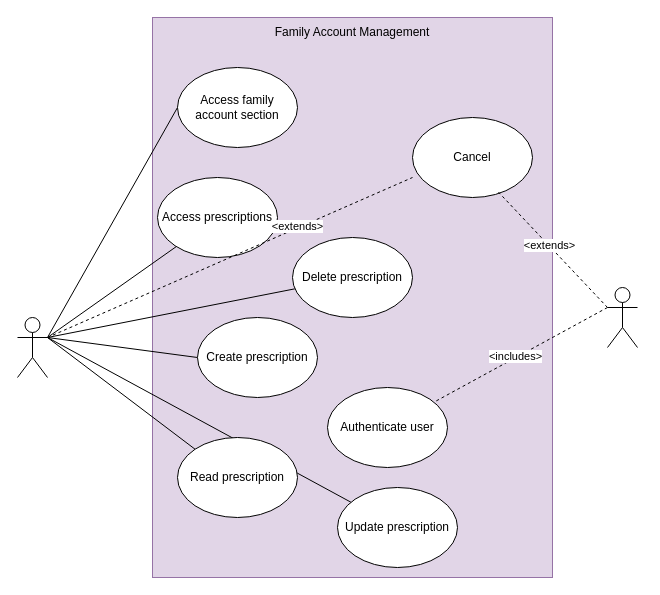
Some shapes in this 660 by 595 pixel diagram are drawn without their labels. The shapes that lost their labels are listed below. From the top down, each one's box as (x1, y1, x2, y2) in pixels, then its label:
(606, 286, 638, 348): System
(16, 316, 48, 378): User
